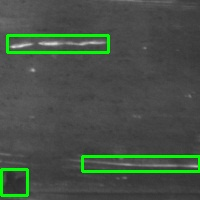inclusion: (2, 169, 27, 195)
scratches: (82, 156, 199, 171), (7, 35, 108, 52)
